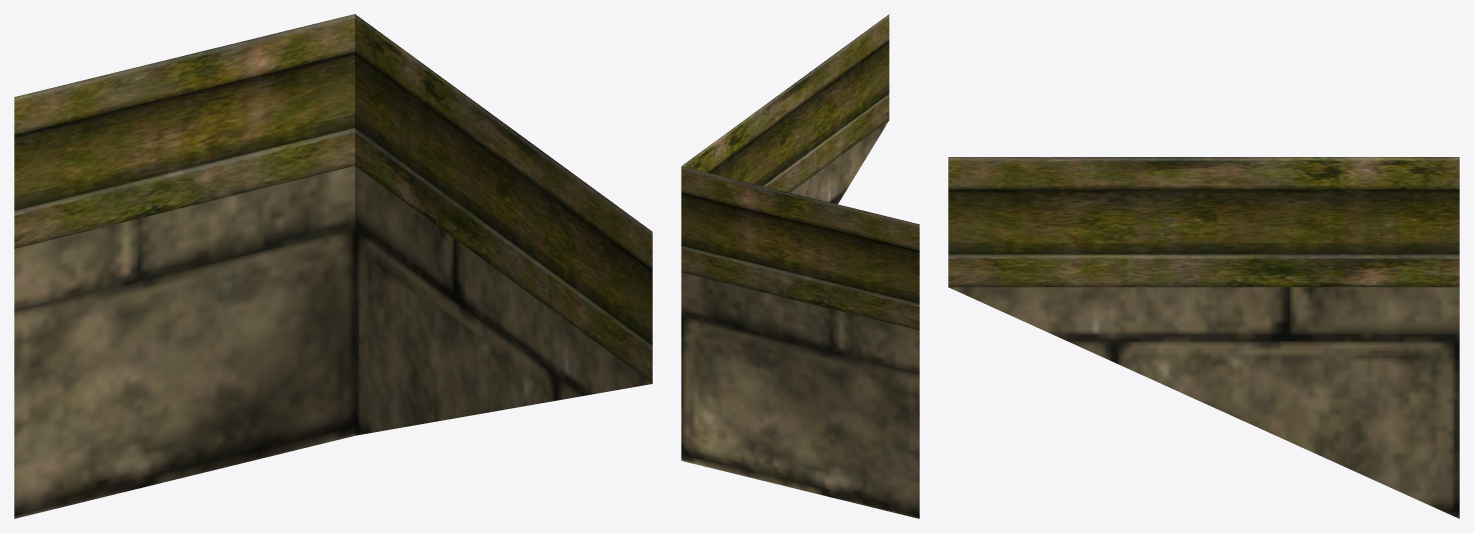
File: OVERHILL_A_01_LINE221.fbx
The picture shows the model from 3 angles, left to right: view 1: azimuth 30°, elevation 25°; view 2: azimuth 150°, elevation 25°; view 3: azimuth 270°, elevation 25°; orthographic projection. The views are drawn at different scales.
Parts seen in each view (by area): view 1: OVERHILL_A_01_LINE221; view 2: OVERHILL_A_01_LINE221; view 3: OVERHILL_A_01_LINE221.
Part boxes in pixels (x1,y1,x2,y2): OVERHILL_A_01_LINE221: (14,14,652,518); OVERHILL_A_01_LINE221: (681,14,919,518); OVERHILL_A_01_LINE221: (948,157,1459,518).
Bounding box in the file's own units: 13224 × 15634 × 20000.
2 materials, 2 textured.
